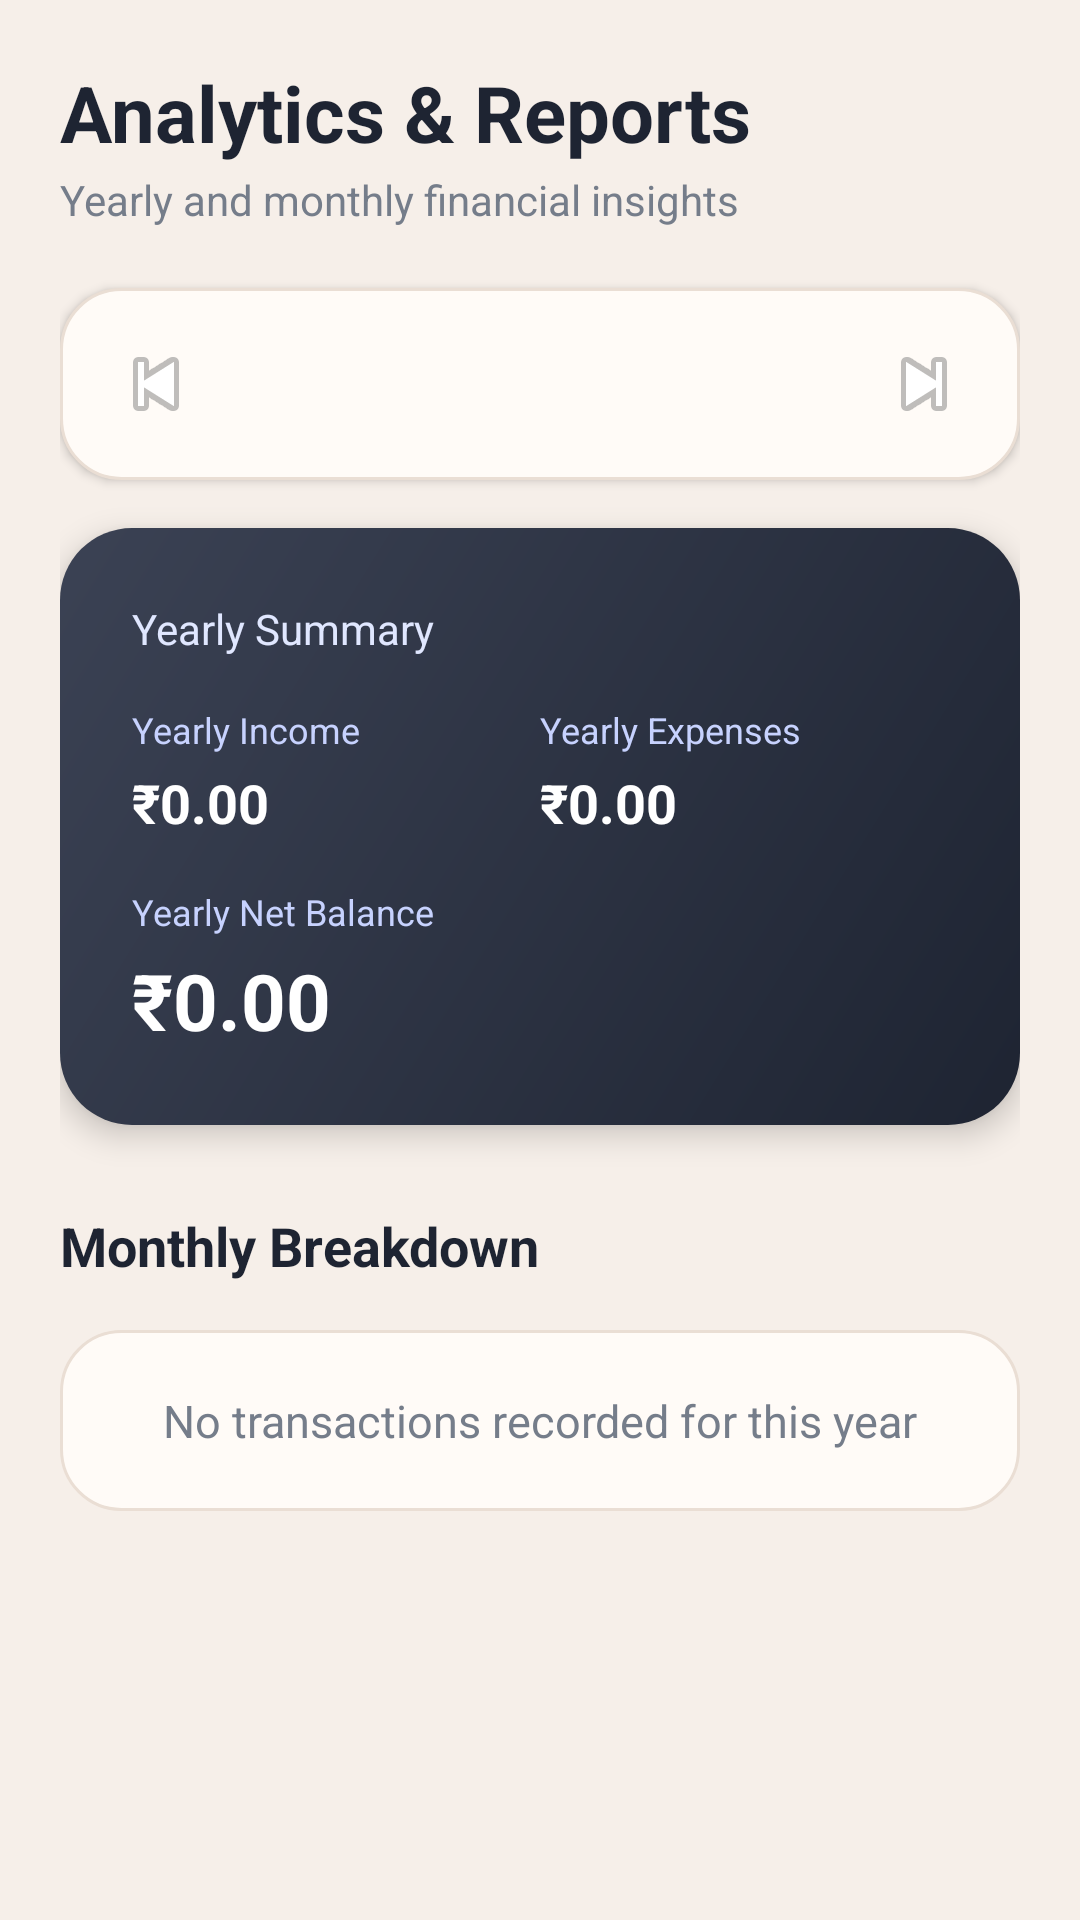

Icons on this 1080x1920 Android screen, each with its box as (left=x1, top=y1, right=x2, bottom=y2):
Next Year: (left=901, top=357, right=947, bottom=411)
Previous Year: (left=133, top=357, right=179, bottom=411)
